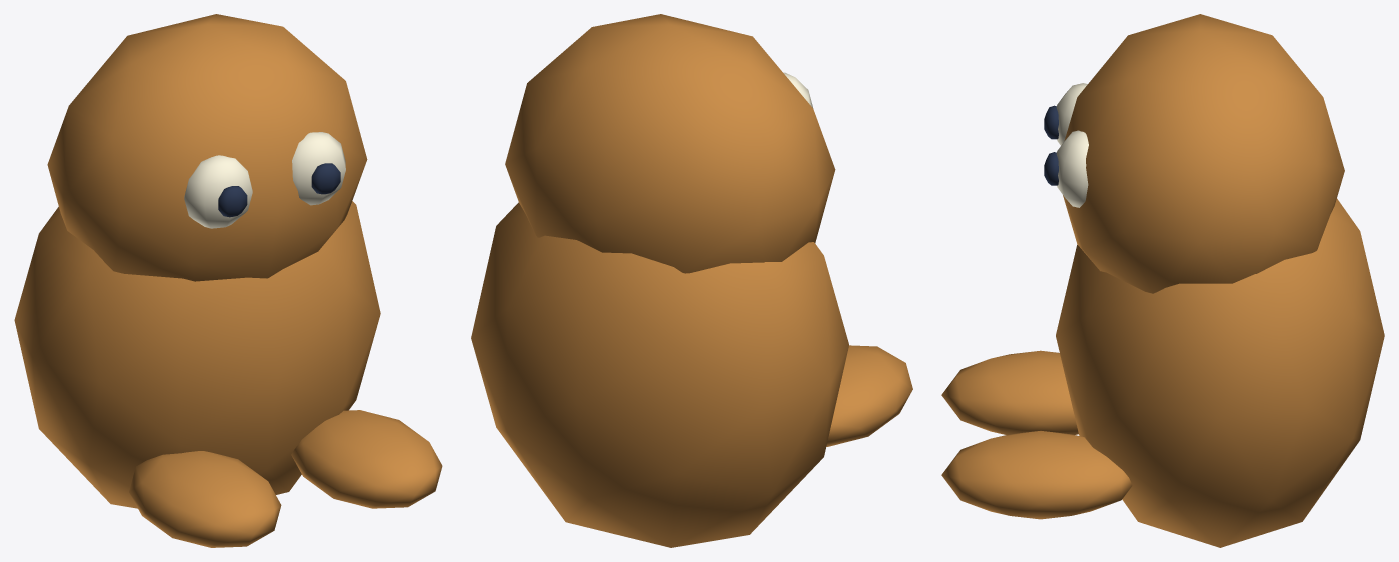
File: person.glb
3 renders of one model, left to right at view 1: azimuth 30°, elevation 25°; view 2: azimuth 150°, elevation 25°; view 3: azimuth 270°, elevation 25°, orthographic. The views are drawn at different scales.
Parts seen in each view (by area): view 1: person-low-poly-character; view 2: person-low-poly-character; view 3: person-low-poly-character.
Part boxes in pixels (<box>): person-low-poly-character: <box>14,14,442,547</box>; person-low-poly-character: <box>471,14,912,547</box>; person-low-poly-character: <box>941,14,1384,547</box>.
Size of the model in its own units: 1.56 by 2.23 by 1.78.
